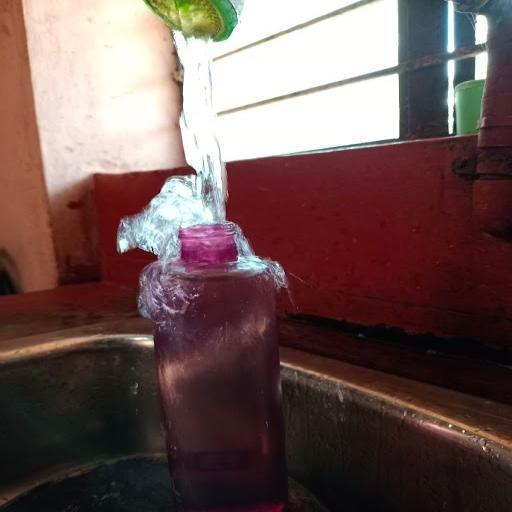bottle: (143, 219, 313, 512)
